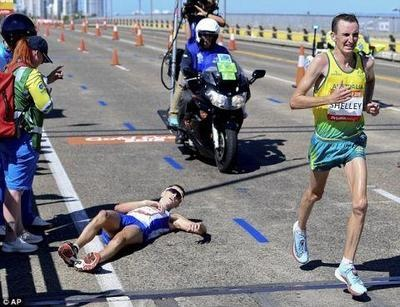falling: (49, 171, 214, 275)
